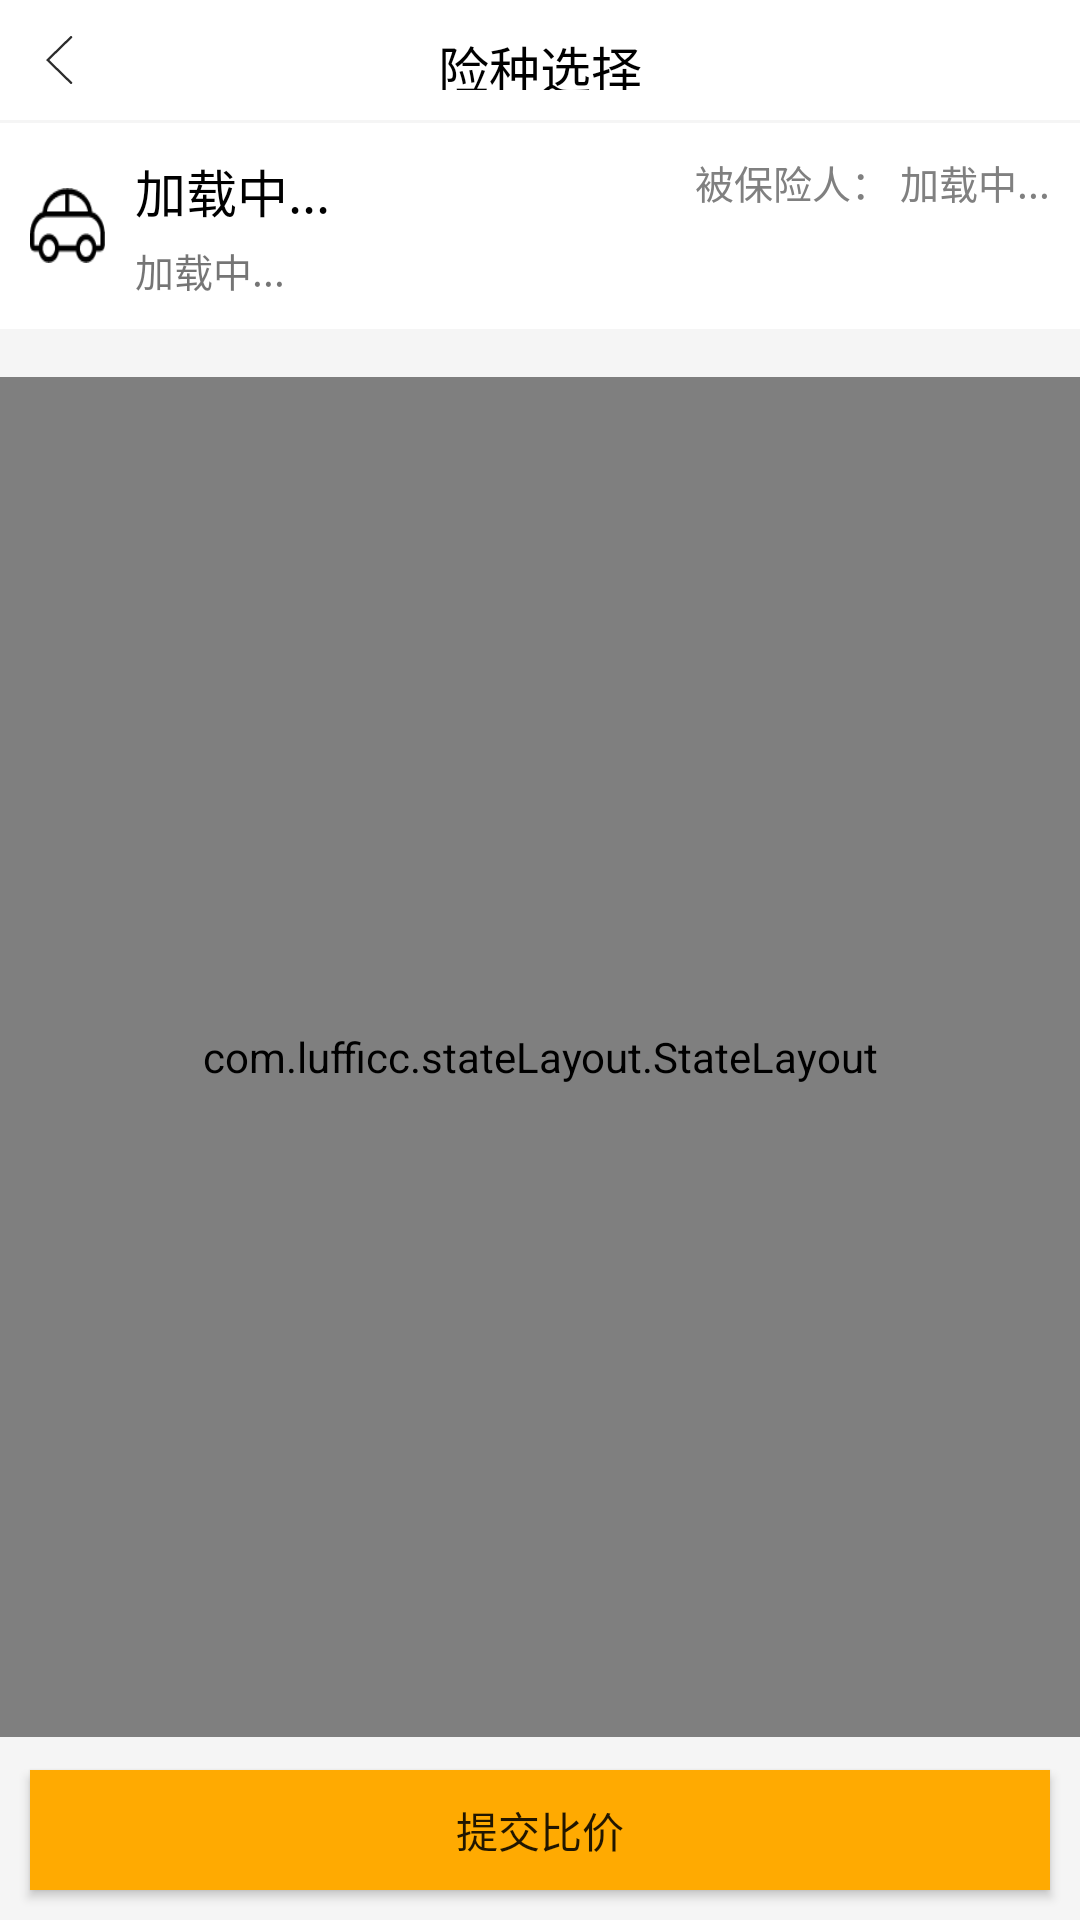

Screen size 1080 x 1920. Icon name, then its box in pixels as (x1, y1, x2, y2):
caricon: (30, 188, 105, 263)
return: (46, 36, 73, 84)
